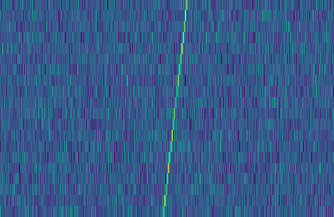signal: (159, 0, 192, 217)
